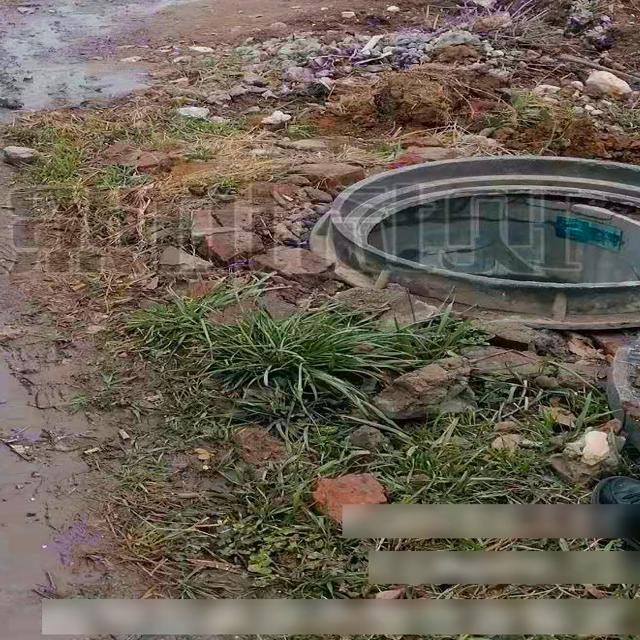lose: (309, 157, 640, 321)
